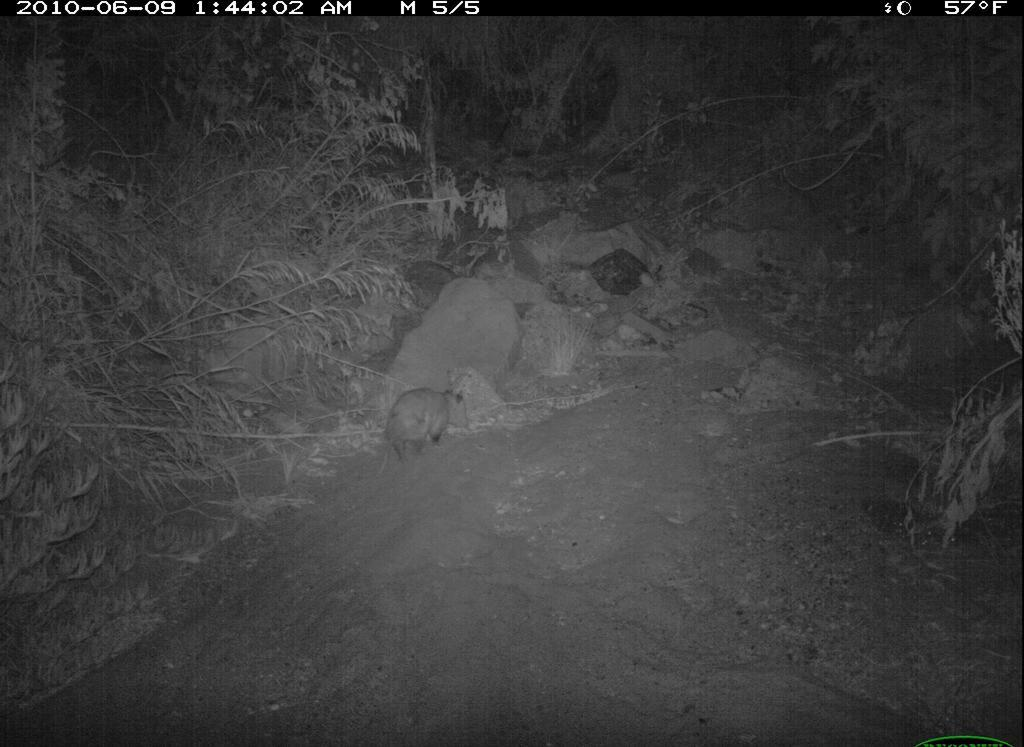opossum: (364, 385, 468, 492)
